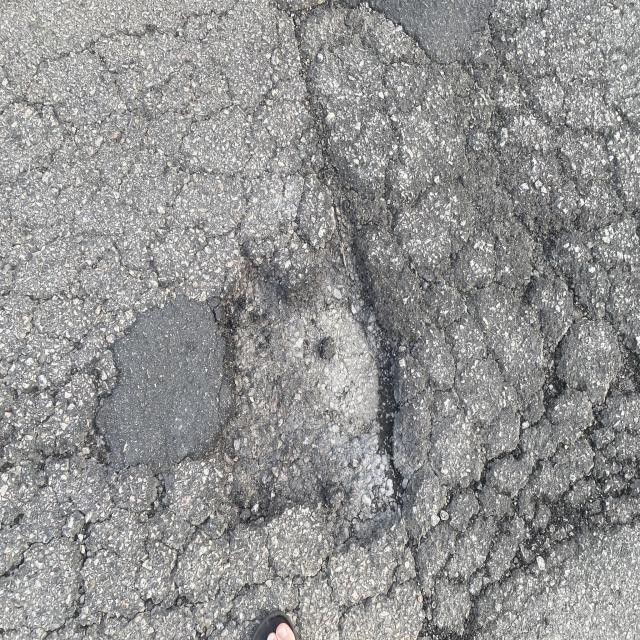Pothole: (208, 242, 461, 493)
